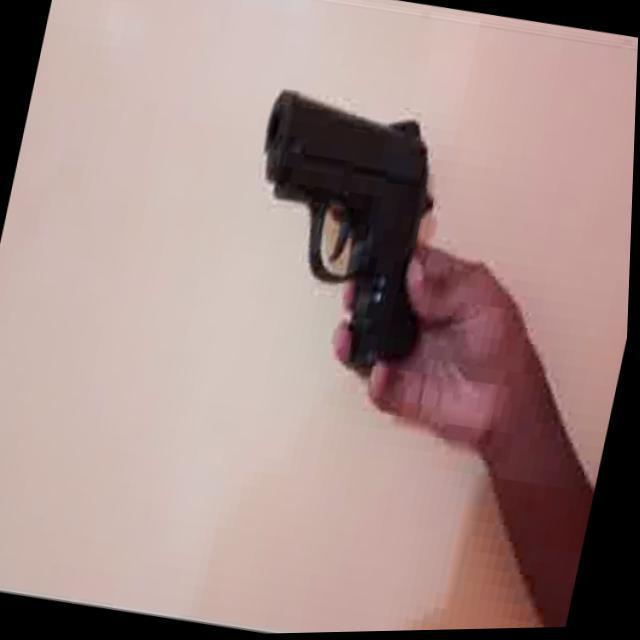weapon: (221, 82, 476, 388)
